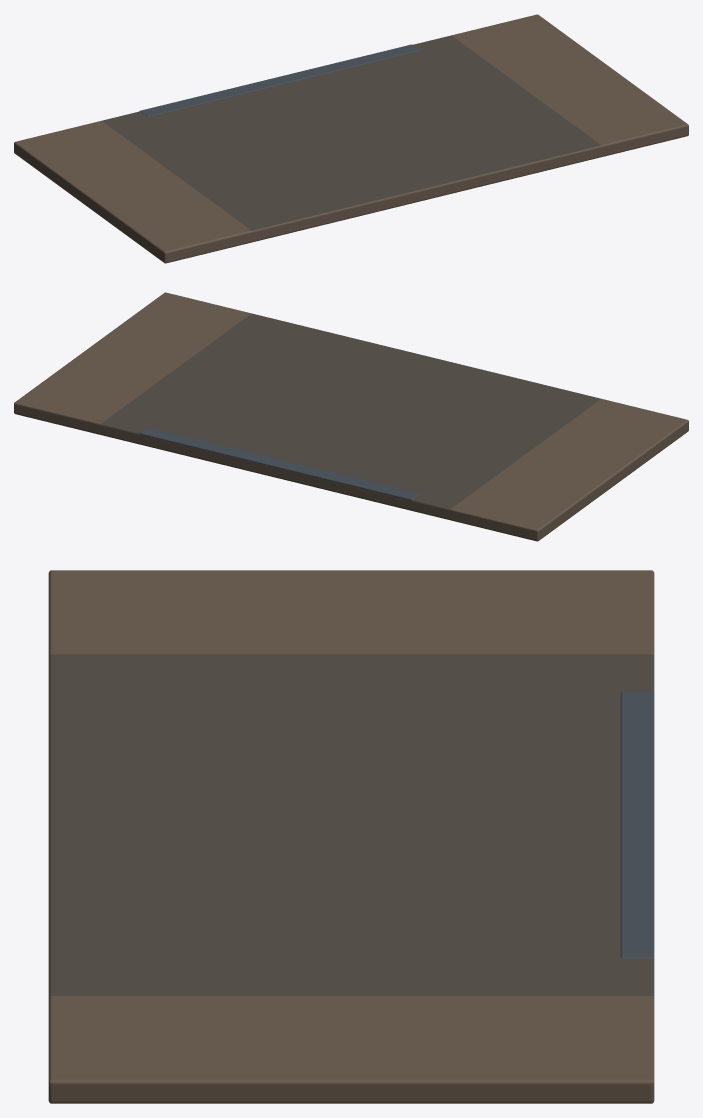
File: SM_MineRamp_Landing.fbx
3 views of the same model, one above another, from view 1: azimuth 30°, elevation 25°; view 2: azimuth 150°, elevation 25°; view 3: azimuth 270°, elevation 25° (orthographic). The views are drawn at different scales.
Visible parts, largest first — view 1: SM_MineRamp_Landing.001; view 2: SM_MineRamp_Landing.001; view 3: SM_MineRamp_Landing.001.
Part boxes in pixels (bbox=[...]): SM_MineRamp_Landing.001: bbox=[14, 14, 688, 263]; SM_MineRamp_Landing.001: bbox=[14, 292, 688, 541]; SM_MineRamp_Landing.001: bbox=[48, 570, 654, 1103].
Bounding box in the file's own units: 600 × 1200 × 26.95.
